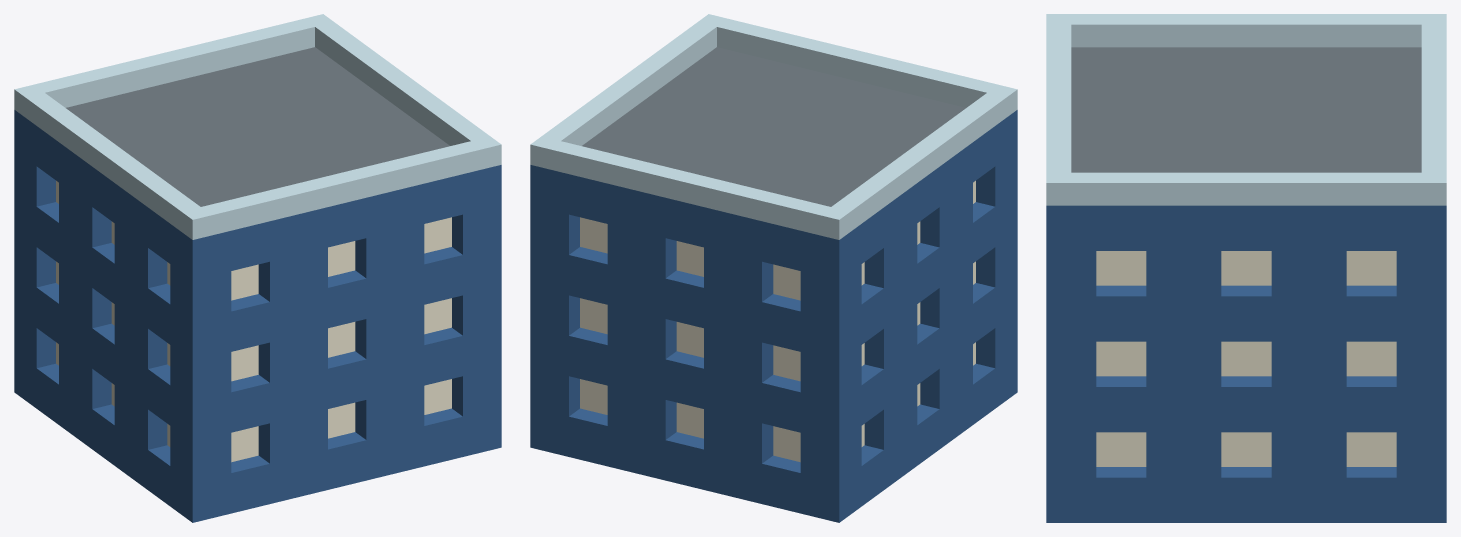
The model's file is Building_2 (Blue).obj.
3 renders of one model, left to right at view 1: azimuth 30°, elevation 25°; view 2: azimuth 150°, elevation 25°; view 3: azimuth 270°, elevation 25°, orthographic. The views are drawn at different scales.
Parts seen in each view (by area): view 1: Building_2_(Blue); view 2: Building_2_(Blue); view 3: Building_2_(Blue).
Part boxes in pixels (box(x1,y1,x2,y2)): Building_2_(Blue): box(14, 14, 501, 522); Building_2_(Blue): box(530, 14, 1017, 522); Building_2_(Blue): box(1046, 14, 1446, 522).
Size of the model in its own units: 1.6 by 1.5 by 1.6.
